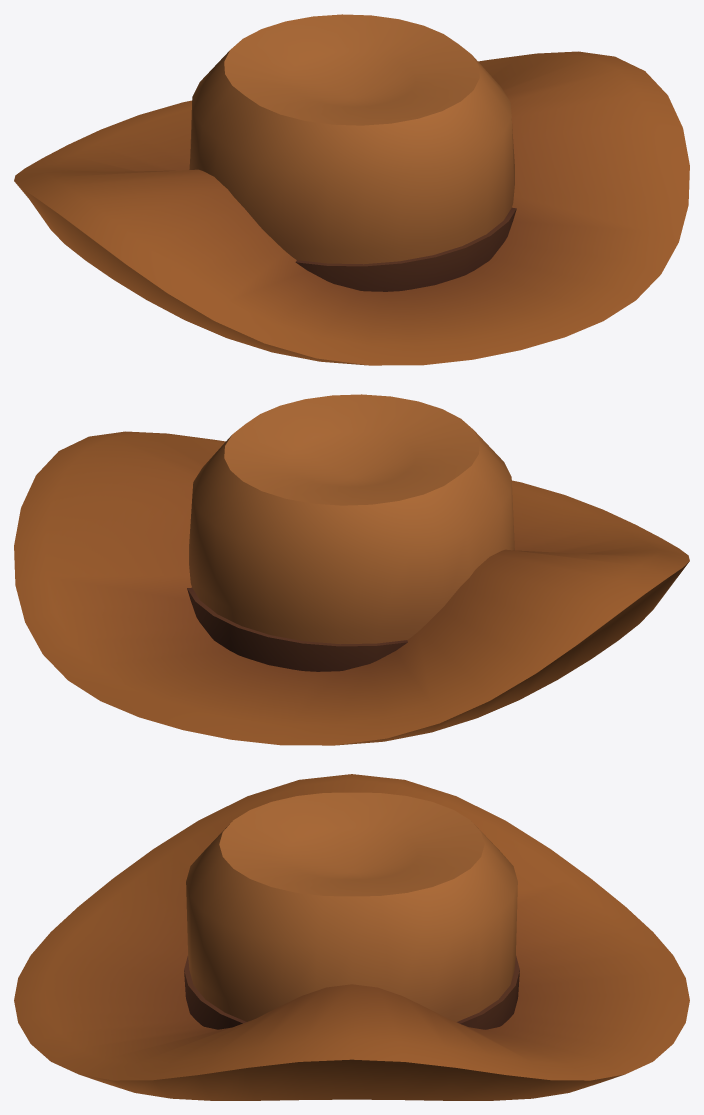
The model's file is hat_cowboy.glb.
The picture shows the model from 3 angles, top to bottom: view 1: azimuth 30°, elevation 25°; view 2: azimuth 150°, elevation 25°; view 3: azimuth 270°, elevation 25°; orthographic projection.
Visible parts, largest first — view 1: hat; view 2: hat; view 3: hat.
Boxes of the visible parts, left/top/right/bottom form: hat: left=14, top=14, right=689, bottom=365; hat: left=14, top=394, right=689, bottom=745; hat: left=14, top=774, right=689, bottom=1100.
Bounding box in the file's own units: 0.66 × 0.185 × 0.66.
